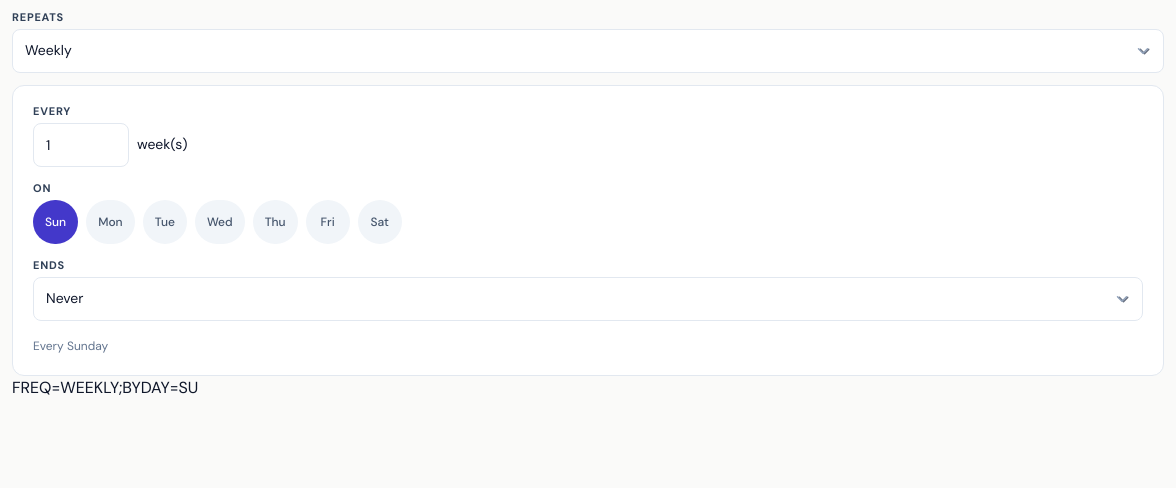
it: RecurrenceControl › builds an every-other-week rule with an end date and says it in words
This screenshot has width=1176, height=488.
Replace the text in the number field labelled "Every" with "2" at (81, 145), box [33,123,129,167]
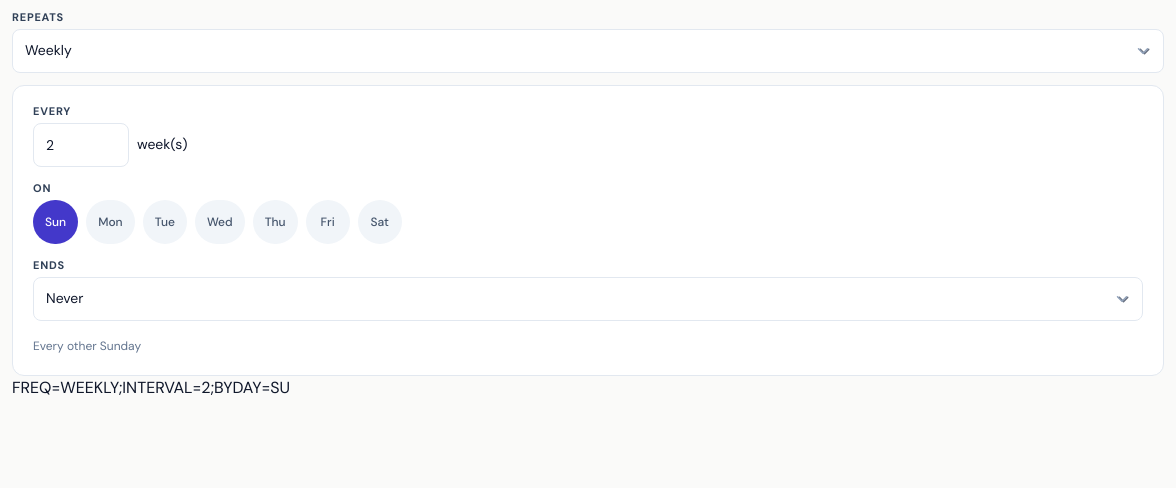
Select "On a date" in the dropdown labelled "Ends" at (588, 299), box [33,277,1143,321]
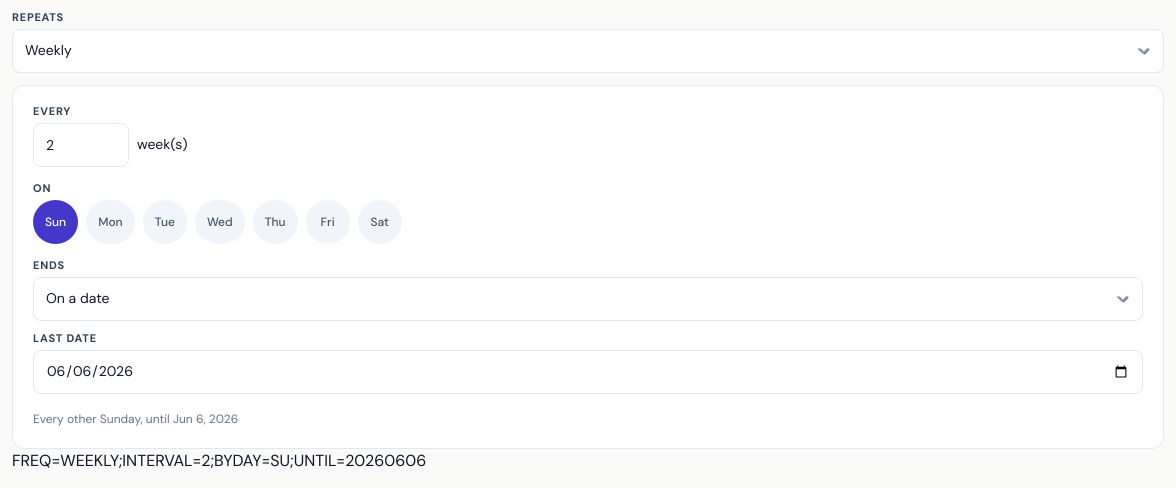
Type "2026-12-31" into the date field labelled "Last date" at (588, 372), box [33,350,1143,394]
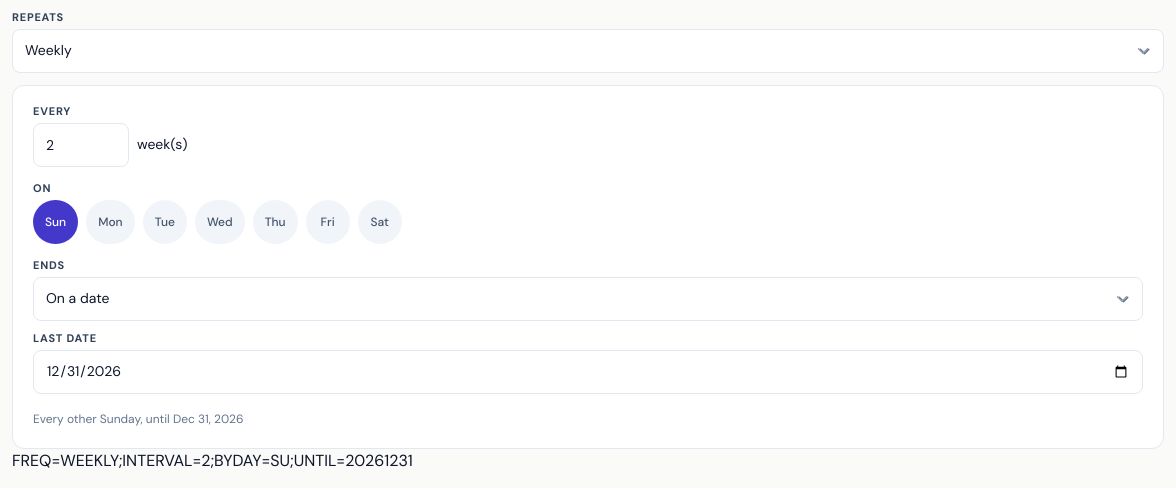
Check: the text with test id "rule" reads "FREQ=WEEKLY;INTERVAL=2;BYDAY=SU;UNTIL=20261231", box [12,450,413,471]
Check: the text "Every other Sunday, until Dec 31, 2026" is shown, box [33,411,244,427]
